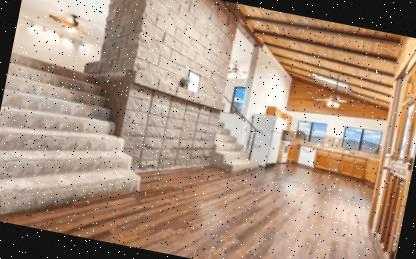stair: (0, 48, 152, 239), (202, 112, 263, 179)
